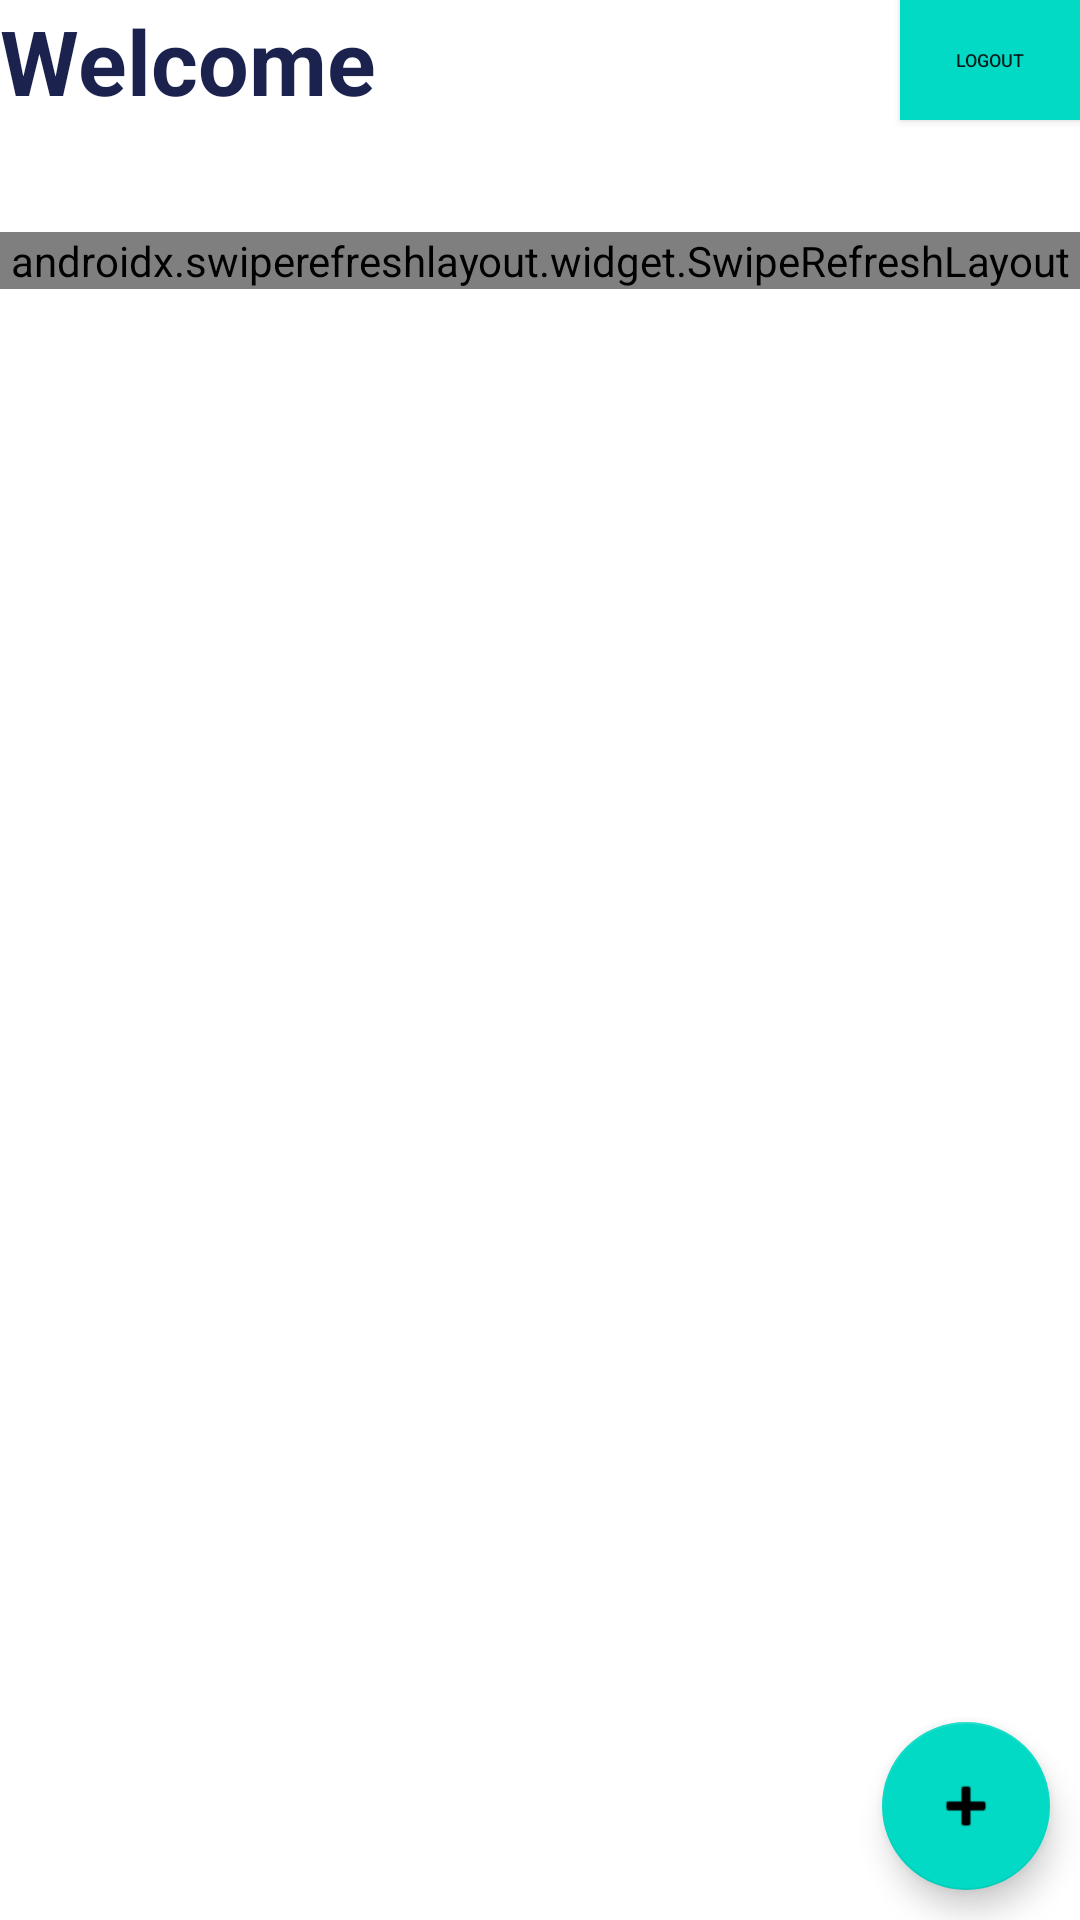

Named icons in this screenshot (1080w x 1920h) and their bounding boxes, (x1, y1, x2, y2):
add: (882, 1722, 1050, 1890)
